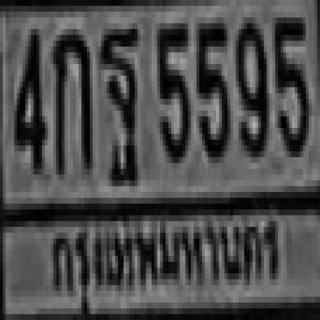A01: (51, 23, 90, 169)
A16: (98, 23, 138, 169)
N04: (12, 23, 44, 169)
N05: (154, 17, 188, 157), (272, 12, 306, 151), (194, 17, 227, 157)
N09: (233, 12, 267, 151)
P04: (43, 212, 284, 297)
